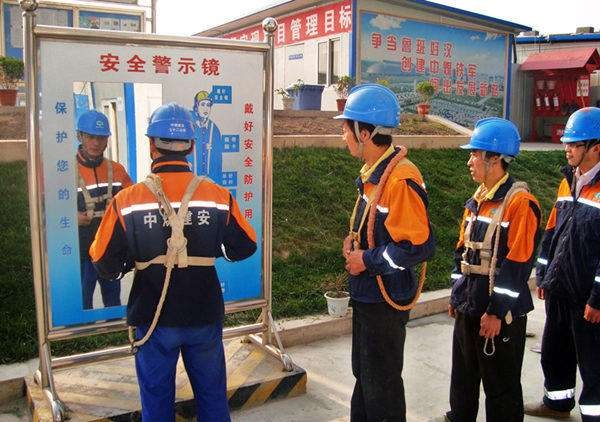blue: (339, 83, 401, 162), (464, 115, 523, 183), (146, 102, 197, 166), (562, 106, 600, 173), (75, 108, 111, 159)
